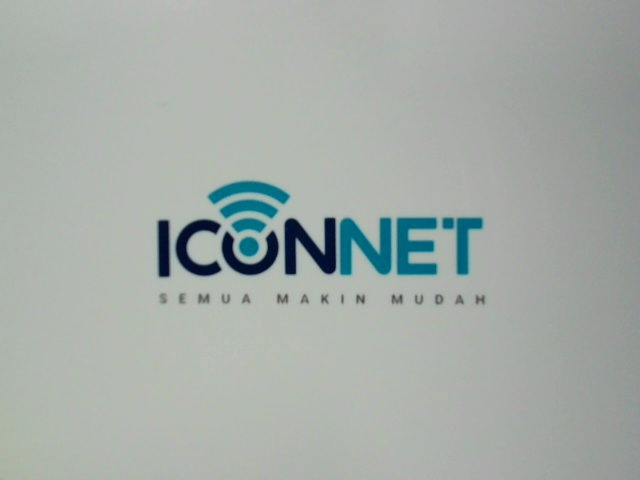BM_ICONNET: (139, 173, 502, 319)
